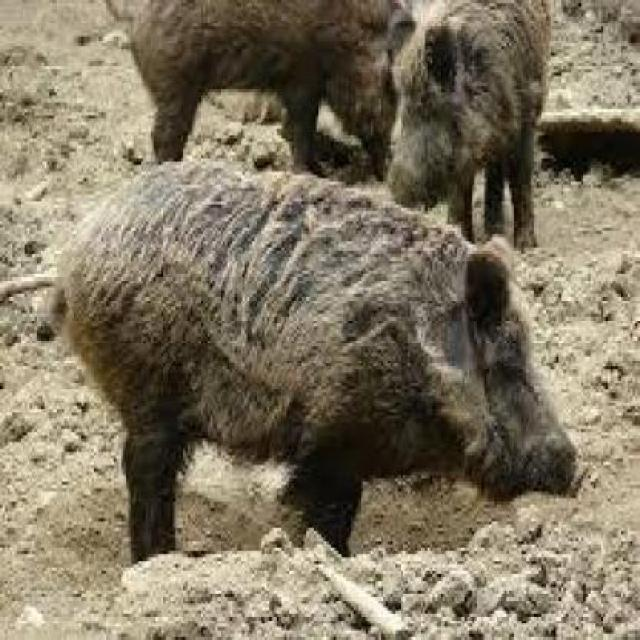wildboar: (37, 145, 586, 570), (128, 0, 422, 178), (376, 0, 561, 268)
